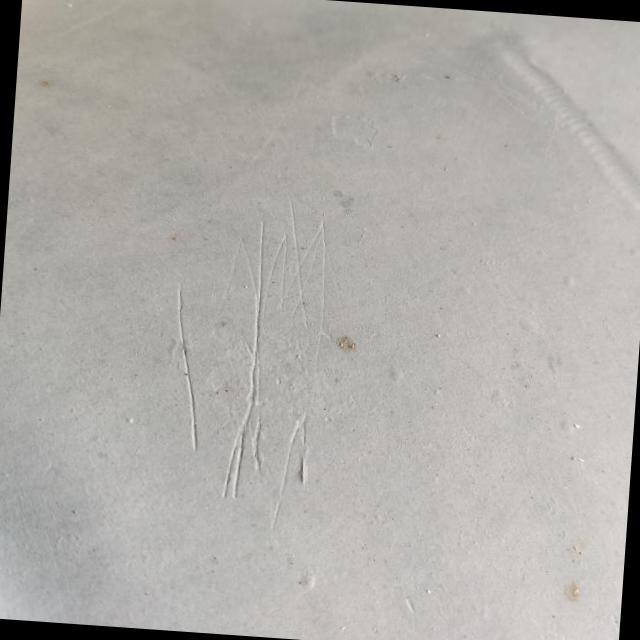Scratch: (170, 204, 325, 516)
